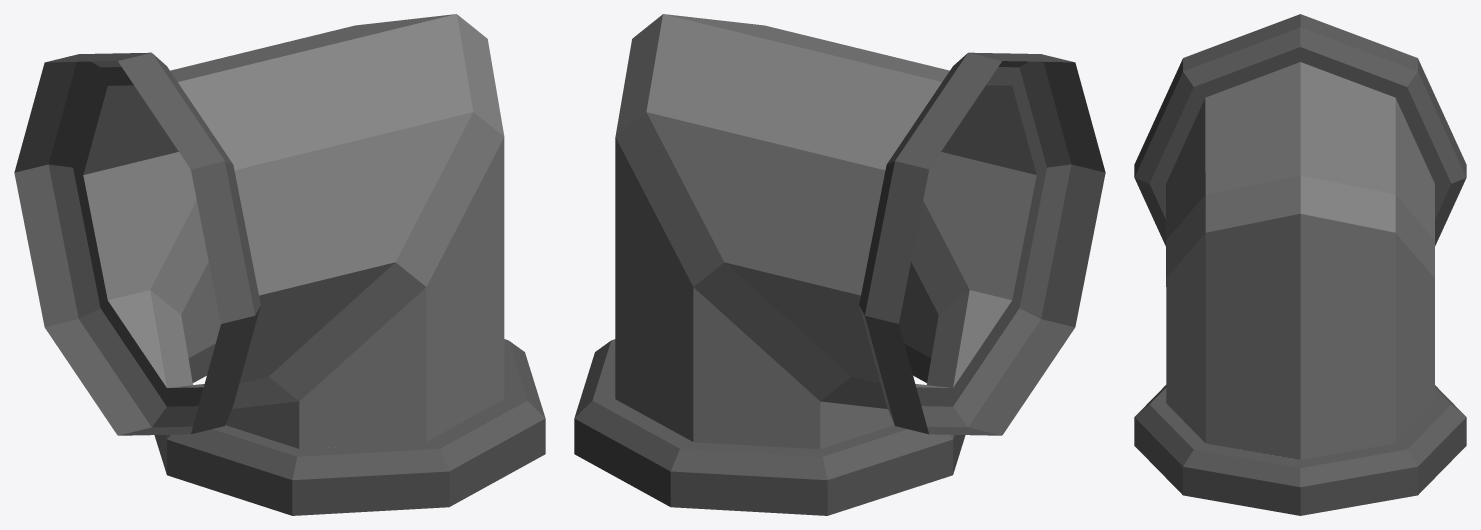
File: model_pipe_kit_corner_01.fbx
The picture shows the model from 3 angles, left to right: view 1: azimuth 30°, elevation 25°; view 2: azimuth 150°, elevation 25°; view 3: azimuth 270°, elevation 25°; orthographic projection. The views are drawn at different scales.
Parts seen in each view (by area): view 1: model_pipe_kit_corner_01; view 2: model_pipe_kit_corner_01; view 3: model_pipe_kit_corner_01.
Part boxes in pixels (x1,y1,x2,y2): model_pipe_kit_corner_01: [14, 14, 545, 515]; model_pipe_kit_corner_01: [574, 14, 1105, 515]; model_pipe_kit_corner_01: [1134, 14, 1466, 515].
Bounding box in the file's own units: 32.26 × 32.26 × 28.36.
Materials: 1 (1 with a texture image).
